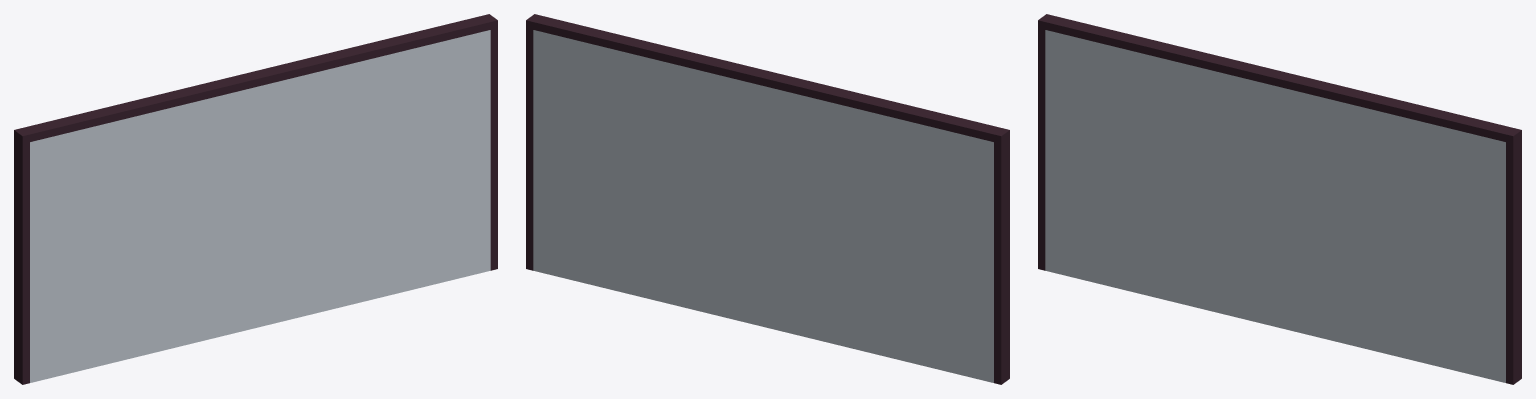
File: Blank Wall (64x32x4).fbx
3 views of the same model, side by side, from view 1: azimuth 30°, elevation 25°; view 2: azimuth 150°, elevation 25°; view 3: azimuth 330°, elevation 25° (orthographic).
Parts seen in each view (by area): view 1: generated; view 2: generated; view 3: generated.
Part boxes in pixels (bbox=[...]): generated: bbox=[14, 14, 497, 384]; generated: bbox=[526, 14, 1009, 384]; generated: bbox=[1038, 14, 1521, 384].
Size of the model in its own units: 2560 by 1280 by 80.
